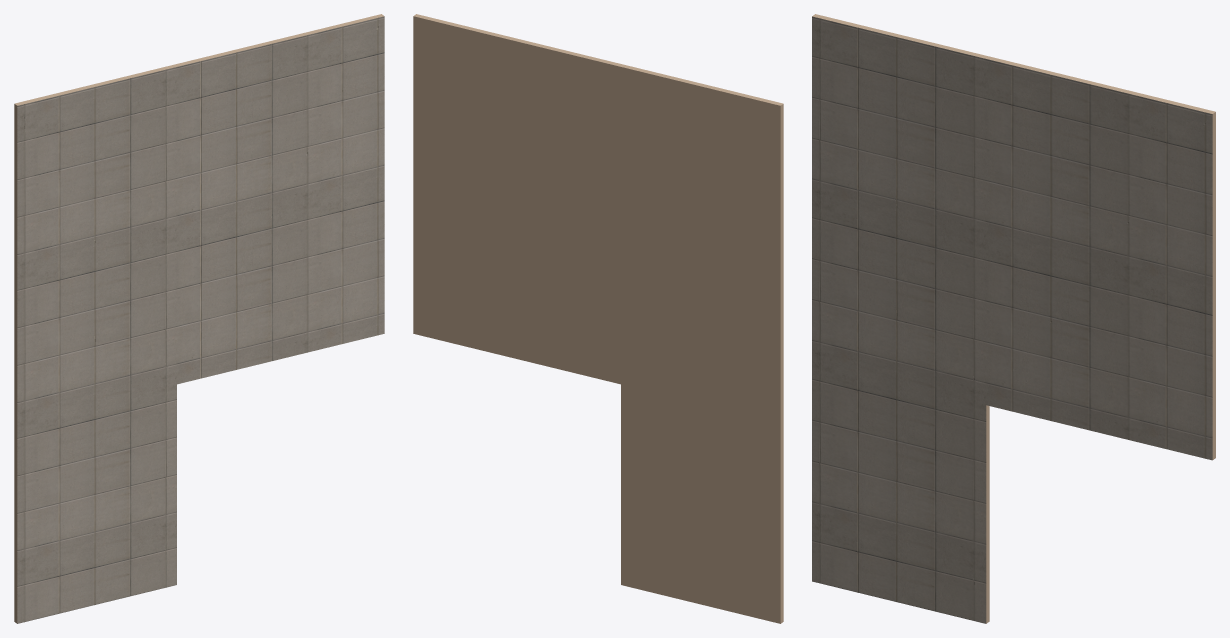
The model's file is floor.fbx.
The picture shows the model from 3 angles, left to right: view 1: azimuth 30°, elevation 25°; view 2: azimuth 150°, elevation 25°; view 3: azimuth 330°, elevation 25°; orthographic projection. The views are drawn at different scales.
Parts seen in each view (by area): view 1: arroway.de_tiles+09_d100, ceramic; view 2: ceramic; view 3: arroway.de_tiles+09_d100, ceramic.
Boxes of the visible parts, x1=… form: arroway.de_tiles+09_d100: x1=17, y1=16, x2=384, y2=623; ceramic: x1=14, y1=14, x2=384, y2=623; ceramic: x1=413, y1=14, x2=783, y2=623; arroway.de_tiles+09_d100: x1=812, y1=16, x2=1212, y2=623; ceramic: x1=812, y1=14, x2=1215, y2=623.
Bounding box in the file's own units: 701 × 945 × 10.
2 materials, 1 textured.
